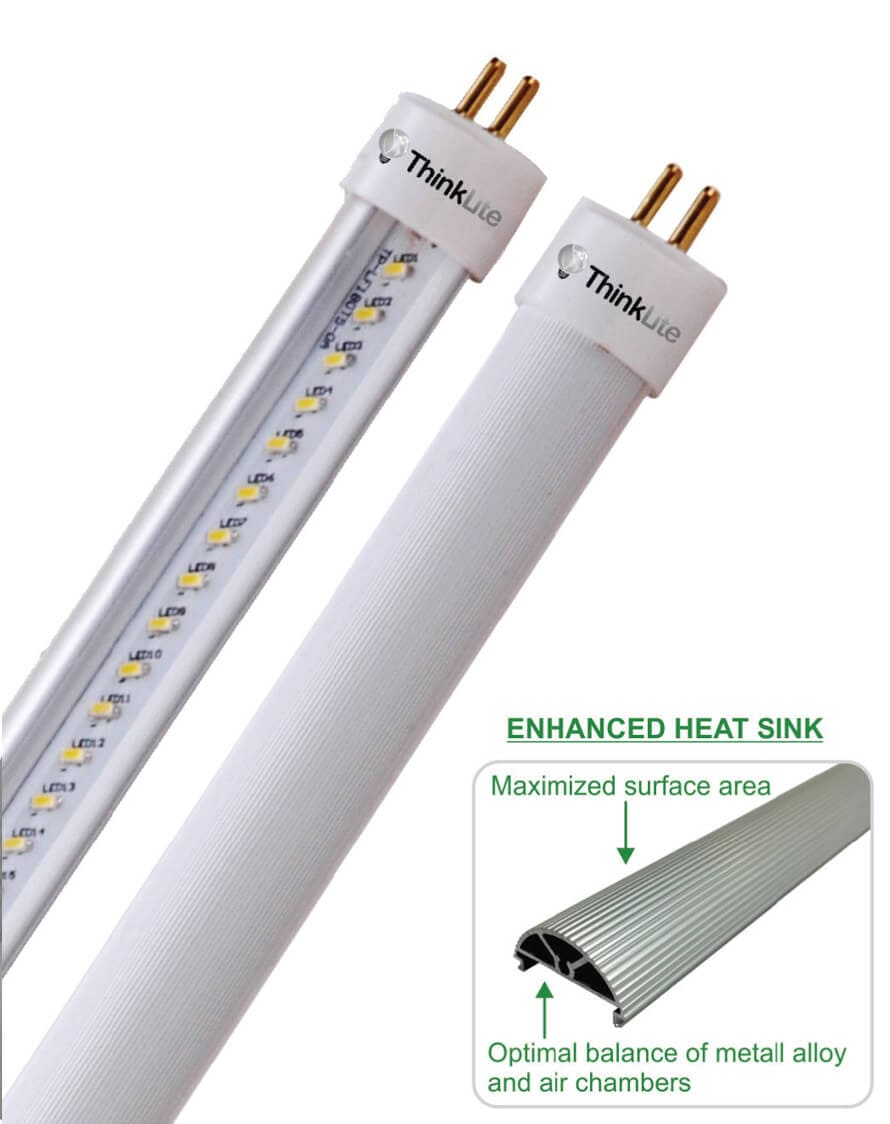Light_bulb: (1, 154, 732, 1124), (1, 49, 549, 999)
